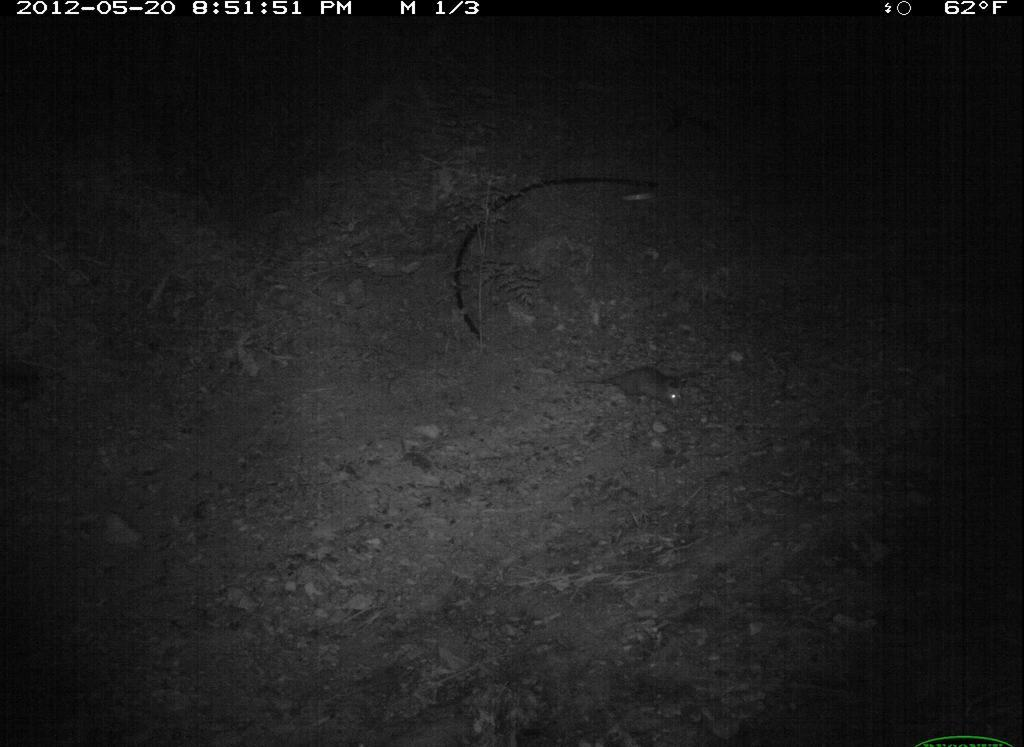opossum: (552, 353, 713, 427)
